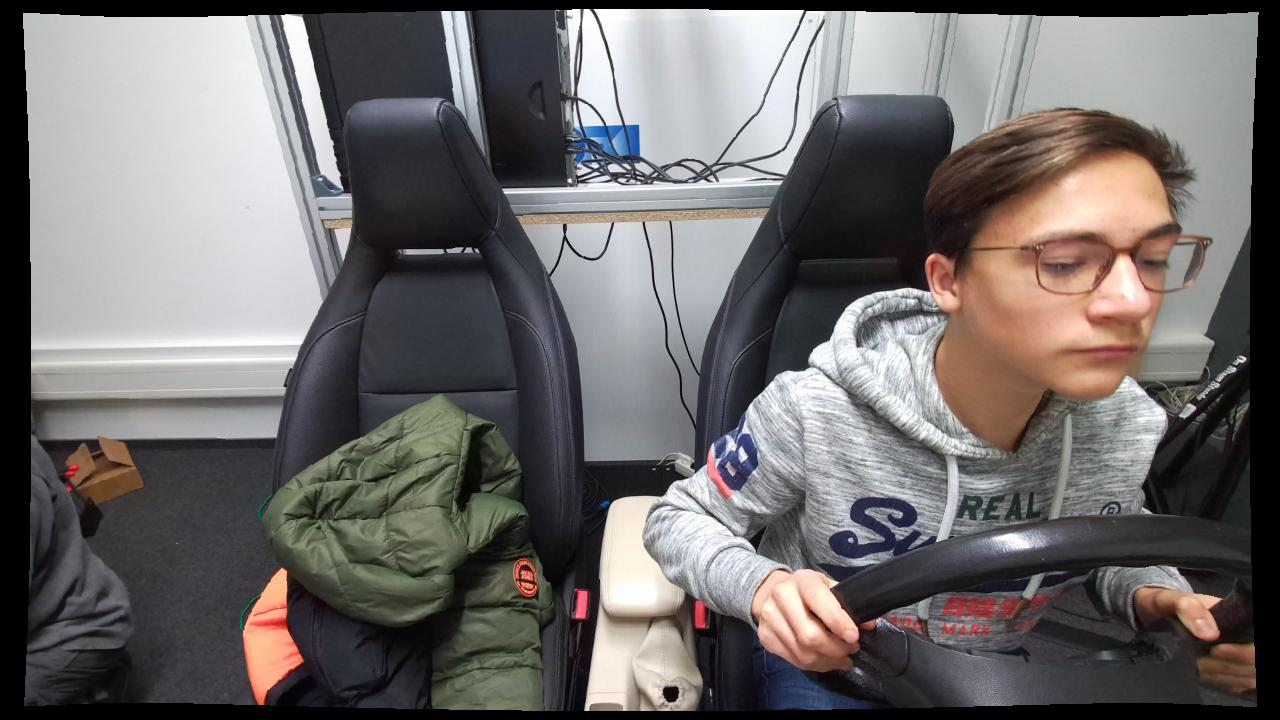Distracted: (645, 104, 1215, 711)
